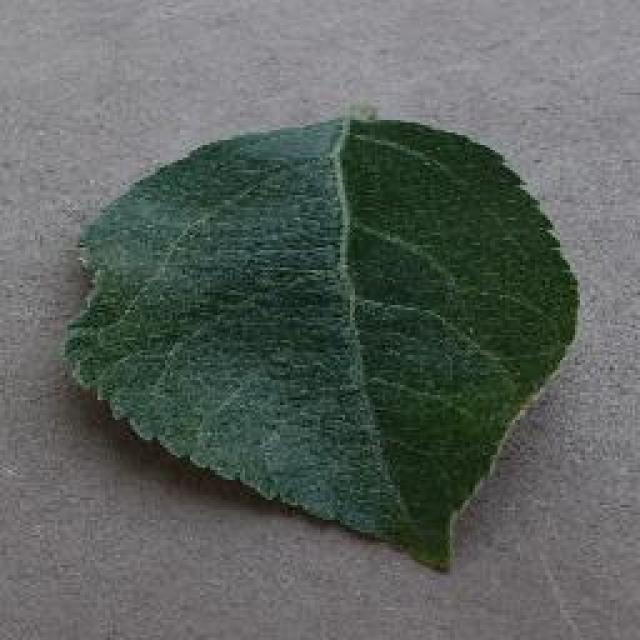apple healthy: (60, 105, 580, 573)
